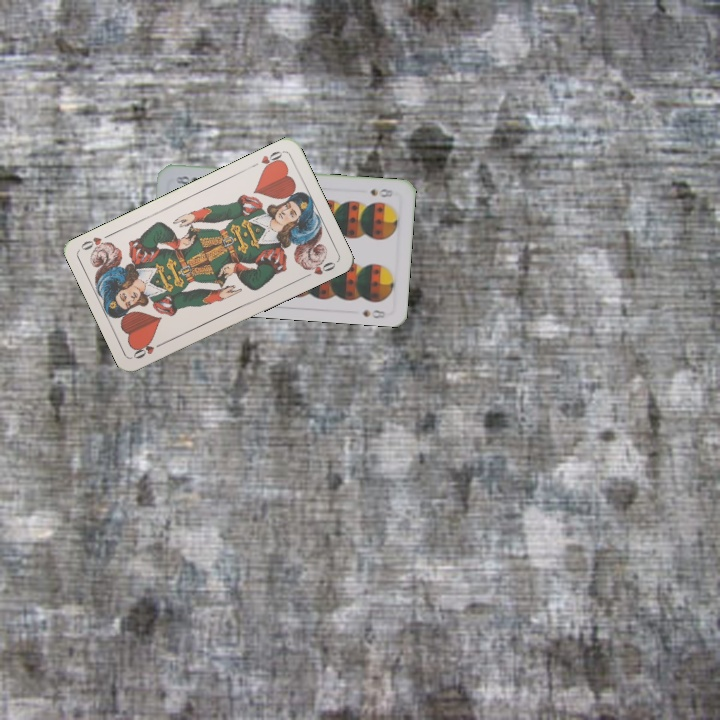HO: (247, 147, 285, 173), (129, 338, 168, 361)
S8: (367, 185, 395, 200)
